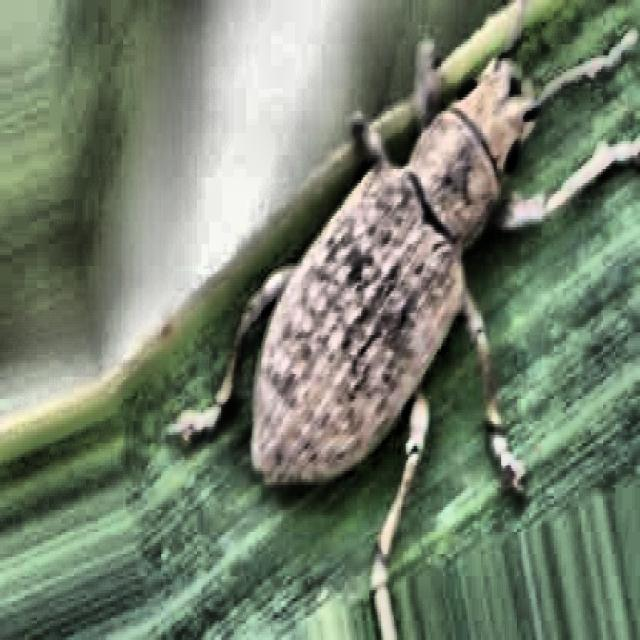Stink bug: (200, 0, 620, 577)
